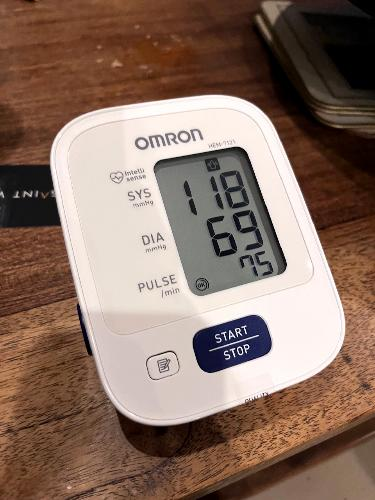bpm: (149, 131, 293, 303)
